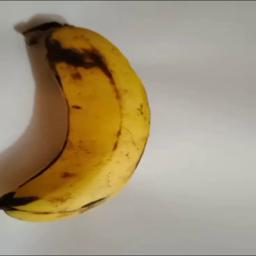Banana Semifresh: (3, 16, 153, 224)
